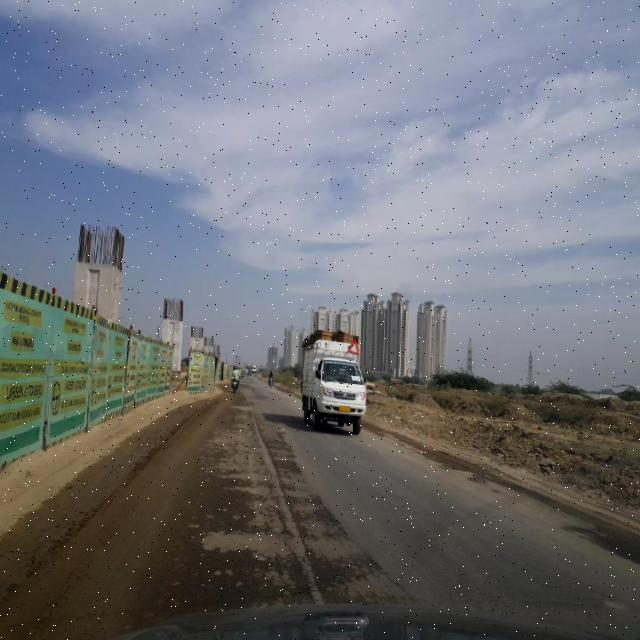D20: (142, 418, 403, 594)
